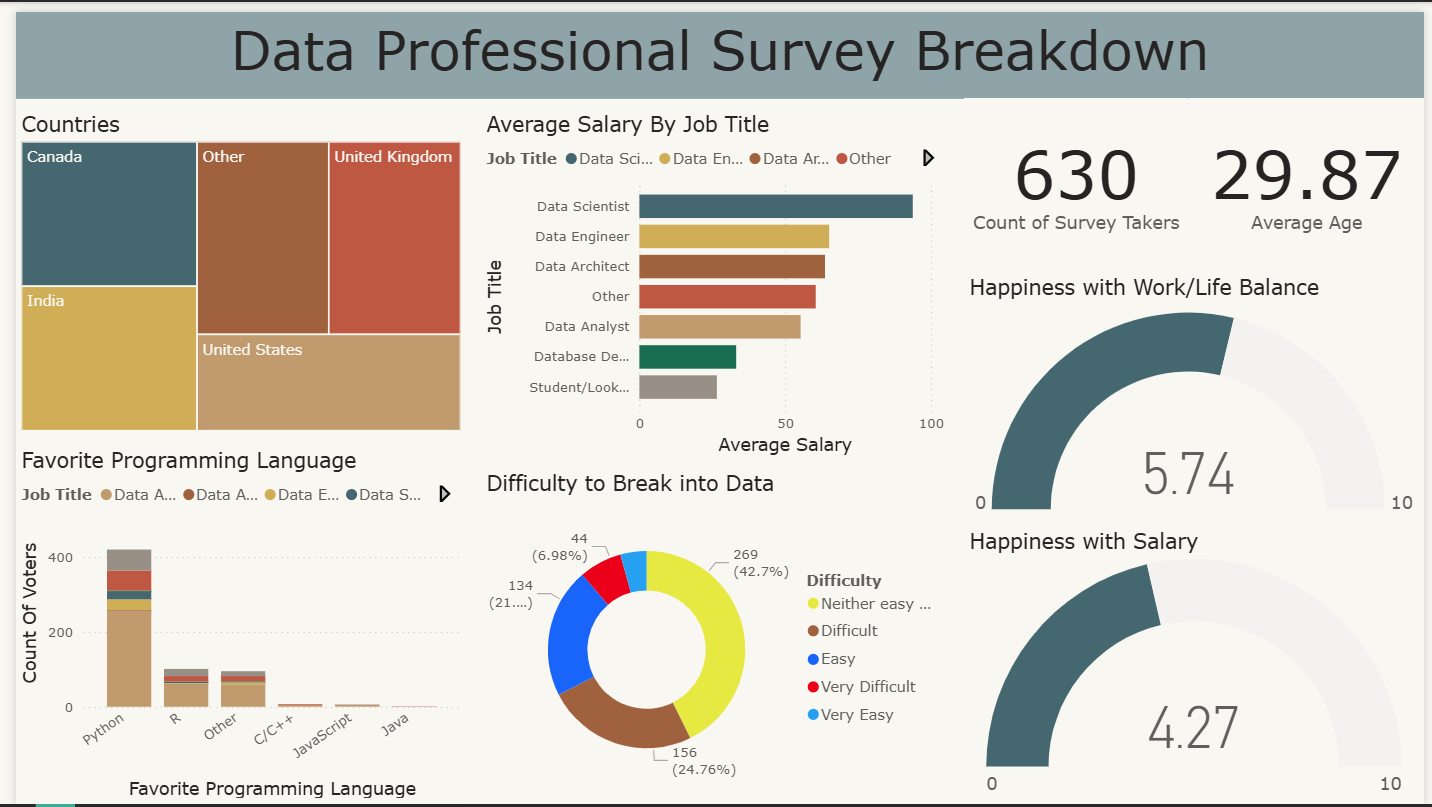

This screenshot's page, from the dashboard's own definition file:
{"tool":"powerbi","page":{"name":"Page 1","canvas":[1280,720],"ordinal":0},"visuals":[{"type":"textbox","box":[0,0,1280,78.6],"z":0},{"type":"card","fields":{"Values":["CountNonNull(Data Professional Survey.Unique ID)"]},"box":[862,78.6,204,150.3],"z":1000},{"type":"card","fields":{"Values":["Avg(Data Professional Survey.Q10 - Current Age)"]},"box":[1066,78.6,214,150.3],"z":2000},{"type":"barChart","title":"Average Salary By Job Title","fields":{"Category":["Data Professional Survey.Q1 - Which Title Best Fits your Current Role?.1"],"Y":["Avg(Data Professional Survey.Average Salary)"],"Series":["Data Professional Survey.Q1 - Which Title Best Fits your Current Role?.1"]},"box":[423,89.6,426,317.5],"z":3000},{"type":"columnChart","title":"Favorite Programming Language","fields":{"Category":["Data Professional Survey.Q5 - Favorite Programming Language.1"],"Y":["CountNonNull(Data Professional Survey.Q5 - Favorite Programming Language.1)"],"Series":["Data Professional Survey.Q1 - Which Title Best Fits your Current Role?.1"]},"box":[0,395.1,409.1,324.5],"z":4000},{"type":"treemap","title":"Countries","fields":{"Group":["Data Professional Survey.Q11 - Which Country do you live in?.1"],"Values":["Count(Data Professional Survey.Q11 - Which Country do you live in?.1)"]},"box":[0,89.6,409.1,295.6],"z":5000},{"type":"gauge","title":"Happiness with Work/Life Balance","fields":{"Y":["Avg(Data Professional Survey.Q6 - How Happy are you in your Current Position with the following? (Work/Life Balance))"],"MinValue":["Min(Data Professional Survey.Q6 - How Happy are you in your Current Position with the following? (Work/Life Balance))1"],"MaxValue":["Max(Data Professional Survey.Q6 - How Happy are you in your Current Position with the following? (Work/Life Balance))2"]},"box":[862,237.9,418,230.9],"z":6000},{"type":"gauge","title":"Happiness with Salary","fields":{"Y":["Avg(Data Professional Survey.Q6 - How Happy are you in your Current Position with the following? (Salary))"],"MinValue":["Min(Data Professional Survey.Q6 - How Happy are you in your Current Position with the following? (Salary))"],"MaxValue":["Max(Data Professional Survey.Q6 - How Happy are you in your Current Position with the following? (Salary))"]},"box":[862,468.8,418,250.8],"z":7000},{"type":"donutChart","title":"Difficulty to Break into Data","fields":{"Category":["Data Professional Survey.Q7 - How difficult was it for you to break into Data?"],"Y":["CountNonNull(Data Professional Survey.Q7 - How difficult was it for you to break into Data?)"]},"box":[423,416,426,303.6],"z":8000}]}

Visuals, with their boxes in screenshot pixels (x1, y1, x2, y2), scaled from the page's 1280x720 canvas onto the 1432x807 screenshot:
textbox: region(0, 0, 1431, 88)
card - CountNonNull(Data Professional Survey.Unique ID): region(964, 88, 1193, 257)
card - Avg(Data Professional Survey.Q10 - Current Age): region(1193, 88, 1431, 257)
"Average Salary By Job Title" barChart: region(473, 100, 950, 456)
"Favorite Programming Language" columnChart: region(0, 443, 458, 806)
"Countries" treemap: region(0, 100, 458, 432)
"Happiness with Work/Life Balance" gauge: region(964, 267, 1431, 525)
"Happiness with Salary" gauge: region(964, 525, 1431, 806)
"Difficulty to Break into Data" donutChart: region(473, 466, 950, 806)
